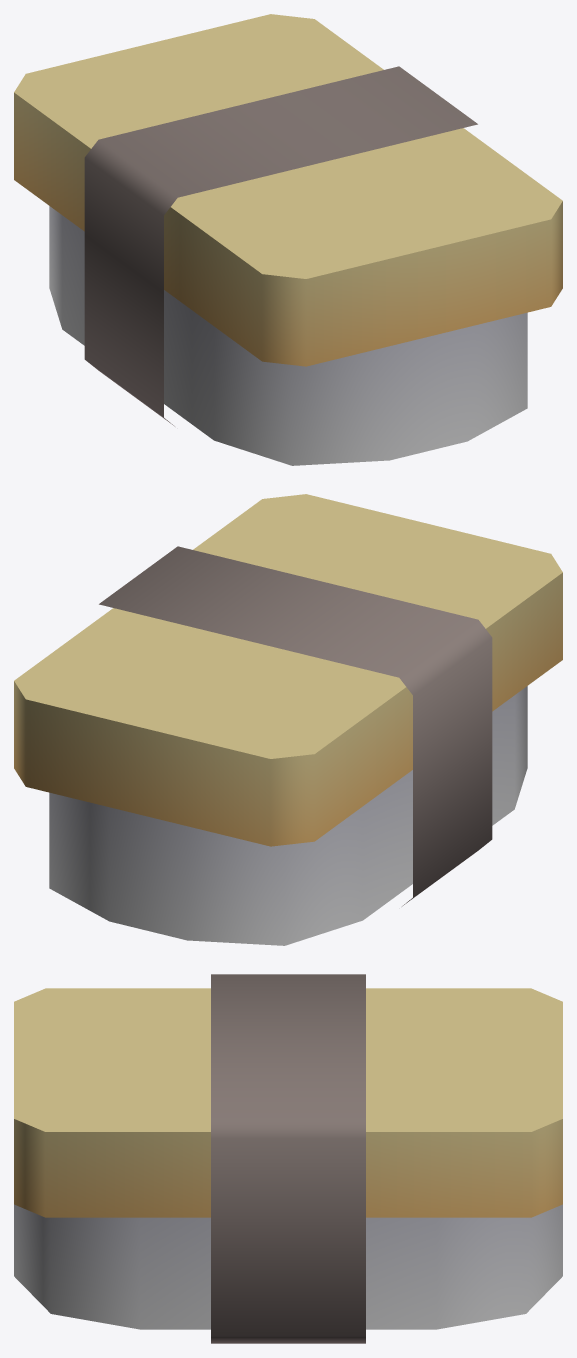
Rendered from sushi-egg.glb.
3 views of the same model, one above another, from view 1: azimuth 30°, elevation 25°; view 2: azimuth 150°, elevation 25°; view 3: azimuth 270°, elevation 25° (orthographic). The views are drawn at different scales.
Parts seen in each view (by area): view 1: sushi-egg; view 2: sushi-egg; view 3: sushi-egg.
Part boxes in pixels (left/top/right/bottom): sushi-egg: left=14, top=14, right=562, bottom=465; sushi-egg: left=14, top=494, right=562, bottom=945; sushi-egg: left=14, top=974, right=562, bottom=1343.
Bounding box in the file's own units: 0.1179 × 0.0792 × 0.1743.
